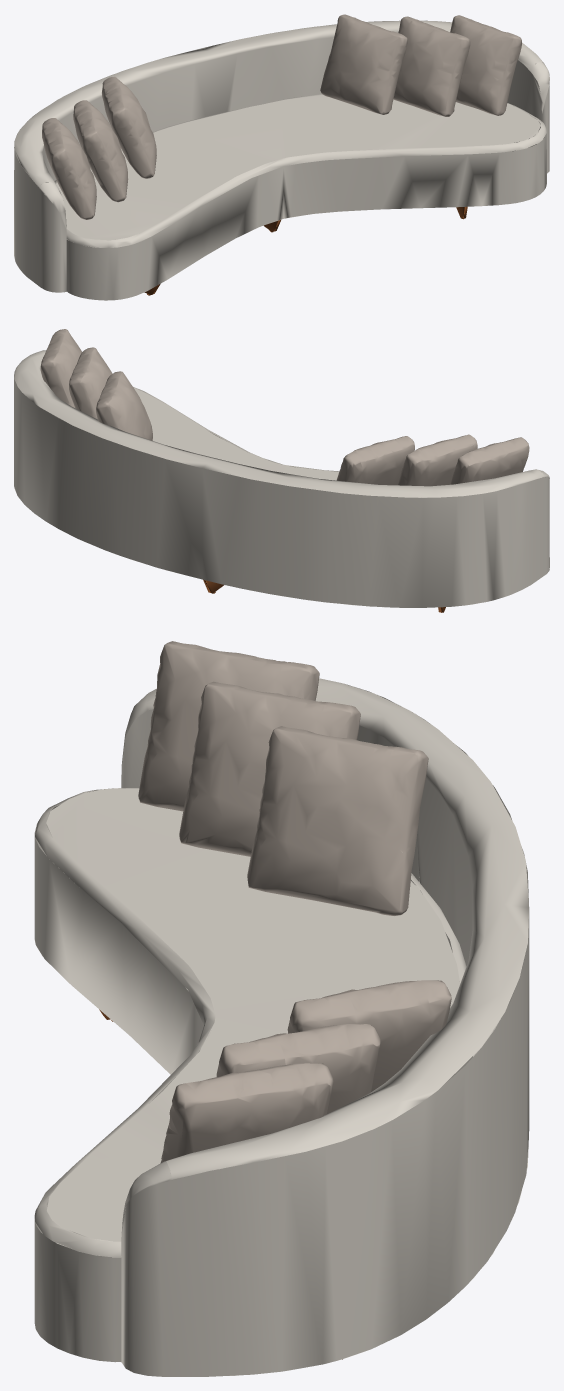
Rendered from sofa-modelo-meia-lua.glb.
3 renders of one model, top to bottom at view 1: azimuth 30°, elevation 25°; view 2: azimuth 150°, elevation 25°; view 3: azimuth 270°, elevation 25°, orthographic. The views are drawn at different scales.
Visible parts, largest first — view 1: Modelo Meia Lua; view 2: Modelo Meia Lua; view 3: Modelo Meia Lua.
Boxes of the visible parts, x1,y1,x2,y2 form: Modelo Meia Lua: (14, 14, 549, 300); Modelo Meia Lua: (14, 329, 549, 612); Modelo Meia Lua: (34, 641, 529, 1376).
Size of the model in its own units: 2.98 by 0.8694 by 1.26.
